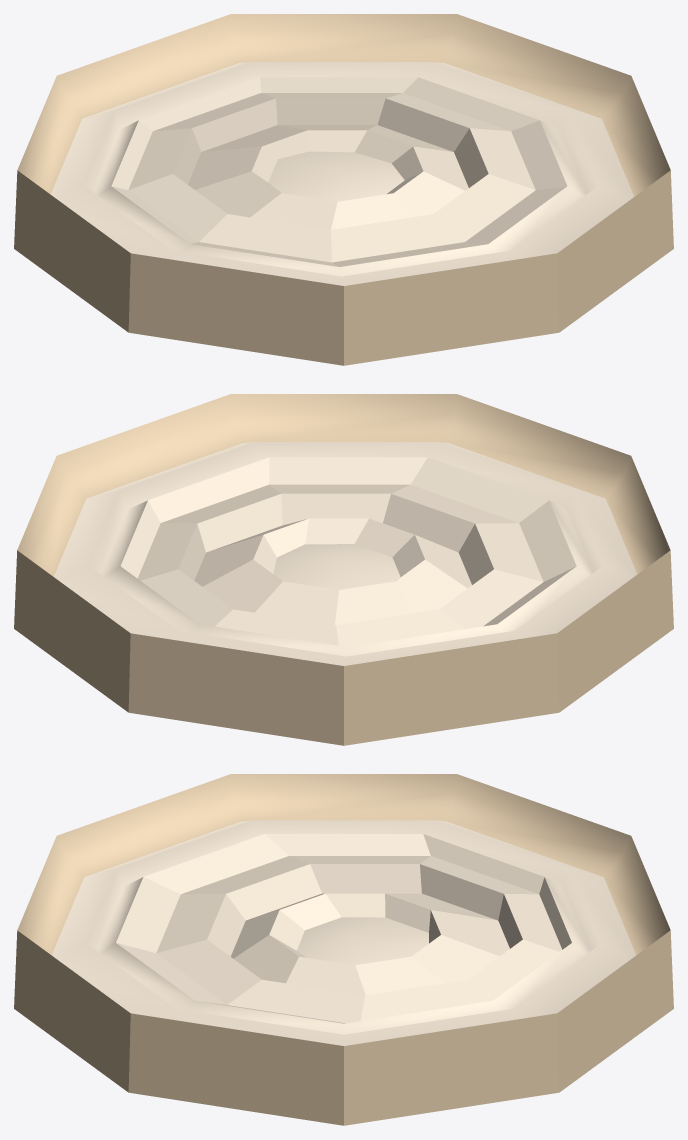
Rendered from Onion_ring.fbx.
3 renders of one model, top to bottom at view 1: azimuth 30°, elevation 25°; view 2: azimuth 150°, elevation 25°; view 3: azimuth 270°, elevation 25°, orthographic.
Parts seen in each view (by area): view 1: Onion_Ring; view 2: Onion_Ring; view 3: Onion_Ring.
Part boxes in pixels (x1=…): Onion_Ring: x1=14, y1=14, x2=673, y2=365; Onion_Ring: x1=14, y1=394, x2=673, y2=745; Onion_Ring: x1=14, y1=774, x2=673, y2=1125.
Bounding box in the file's own units: 1.94 × 0.2712 × 1.97.
